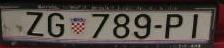-: (153, 24, 162, 29)
7: (92, 13, 110, 38)
8: (112, 13, 130, 38)
9: (135, 14, 151, 38)
G: (47, 13, 65, 37)
I: (192, 14, 198, 38)
P: (165, 14, 184, 38)
Z: (26, 12, 44, 36)
